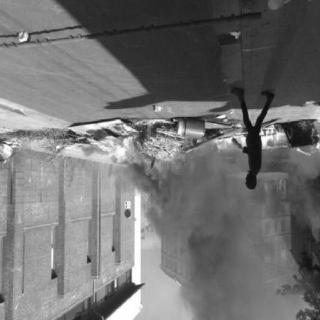Fire: (87, 119, 244, 194), (260, 122, 319, 155)
Smoke: (162, 198, 235, 300)
